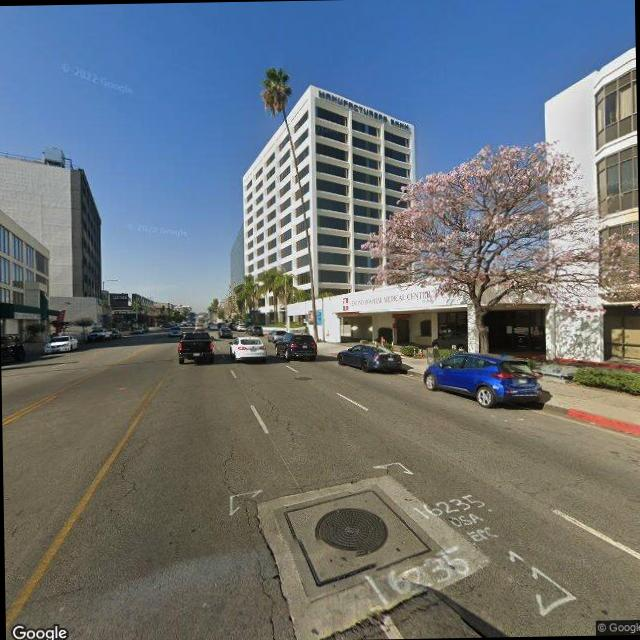pothole: (248, 378, 297, 444), (112, 430, 151, 503), (217, 436, 241, 496)
